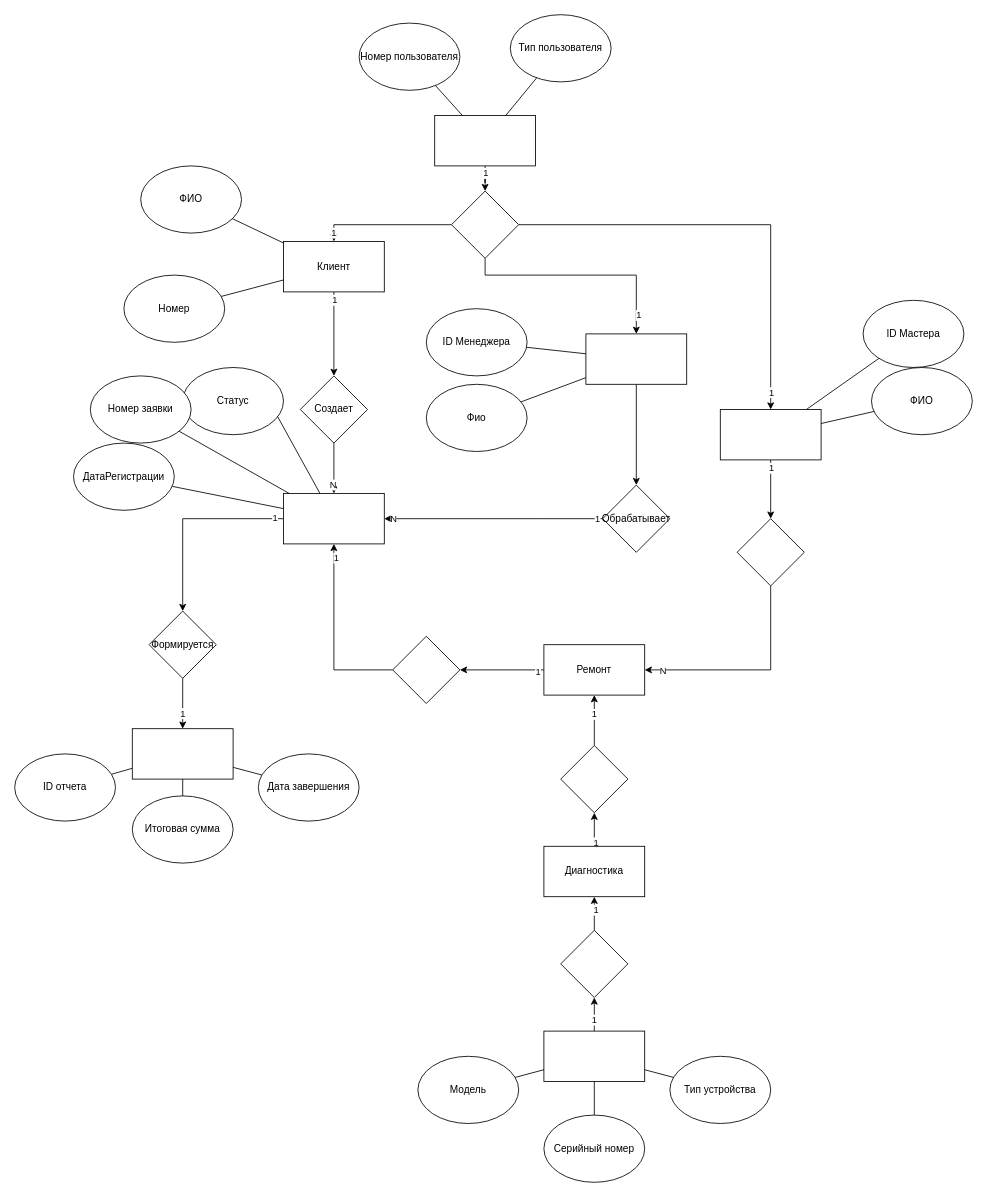
This 987x1197 diagram has some shape labels left out. The centre of each missing label's shape, as x and y in pixels:
"Выполняет" belongs at [770,552].
"Заявка" belongs at [333,518].
"Мастер" belongs at [770,434].
"Менеджер" belongs at [636,358].
"Отчет" belongs at [182,753].
"Переходит в" belongs at [594,779].
"Пользователь" belongs at [485,140].
"Проходит" belongs at [594,963].
"Реализует" belongs at [426,669].
"Связан с" belongs at [485,224].
"Устройство" belongs at [594,1056].
